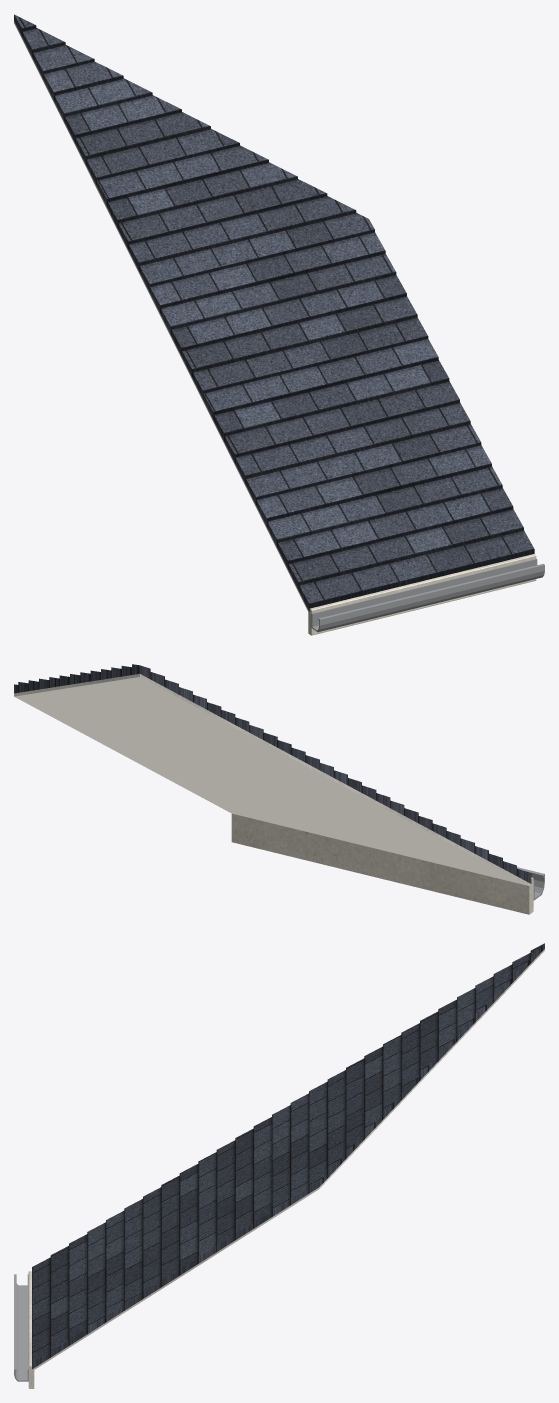
Rendered from roof_main_4.glb.
The picture shows the model from 3 angles, top to bottom: view 1: azimuth 30°, elevation 25°; view 2: azimuth 150°, elevation 25°; view 3: azimuth 270°, elevation 25°; orthographic projection. The views are drawn at different scales.
Parts seen in each view (by area): view 1: roof_main_4_shingles, roof_main_4_gutter, roof_main_4_trim, roof_main_4_plaster; view 2: roof_main_4_plaster, roof_main_4_trim, roof_main_4_shingles, roof_main_4_gutter; view 3: roof_main_4_shingles, roof_main_4_gutter, roof_main_4_plaster.
Part boxes in pixels (x1=…): roof_main_4_shingles: x1=14, y1=14, x2=534, y2=611; roof_main_4_gutter: x1=311, y1=559, x2=544, y2=631; roof_main_4_trim: x1=308, y1=554, x2=536, y2=635; roof_main_4_plaster: x1=14, y1=21, x2=309, y2=613; roof_main_4_plaster: x1=14, y1=674, x2=531, y2=886; roof_main_4_trim: x1=231, y1=813, x2=533, y2=914; roof_main_4_shingles: x1=14, y1=664, x2=531, y2=883; roof_main_4_gutter: x1=517, y1=867, x2=544, y2=900; roof_main_4_shingles: x1=32, y1=943, x2=544, y2=1369; roof_main_4_gutter: x1=14, y1=1274, x2=28, y2=1381; roof_main_4_plaster: x1=32, y1=949, x2=544, y2=1371.
Bounding box in the file's own units: 2 × 3.43 × 4.71.
Materials: 4 (3 with a texture image).
